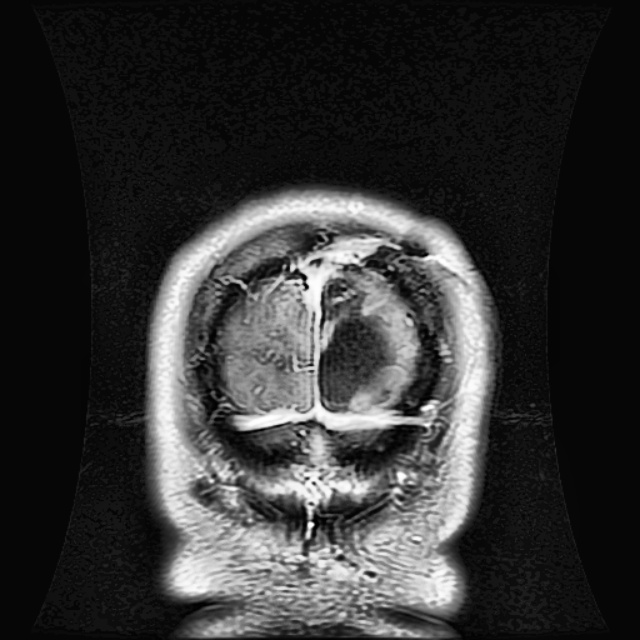Meningioma: (318, 279, 392, 412)
